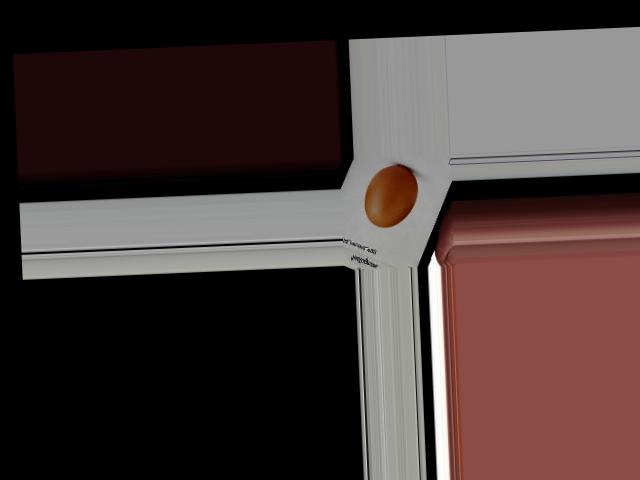egg: (363, 164, 419, 228)
